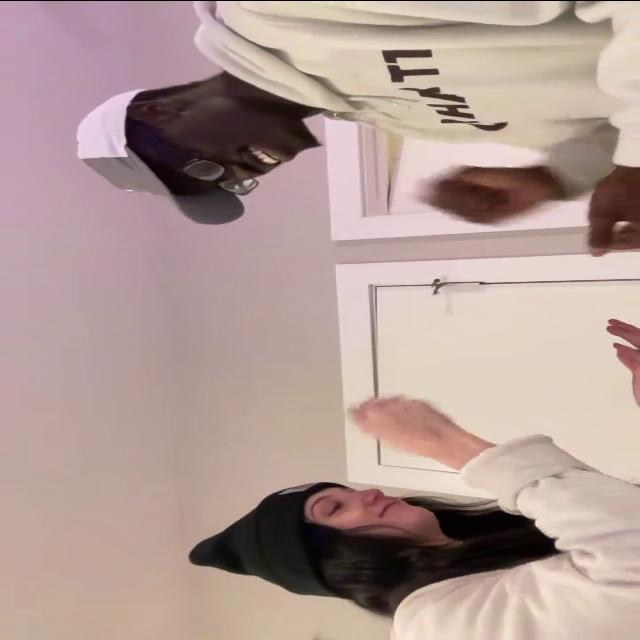Rock: (412, 165, 544, 228), (348, 395, 456, 457)
